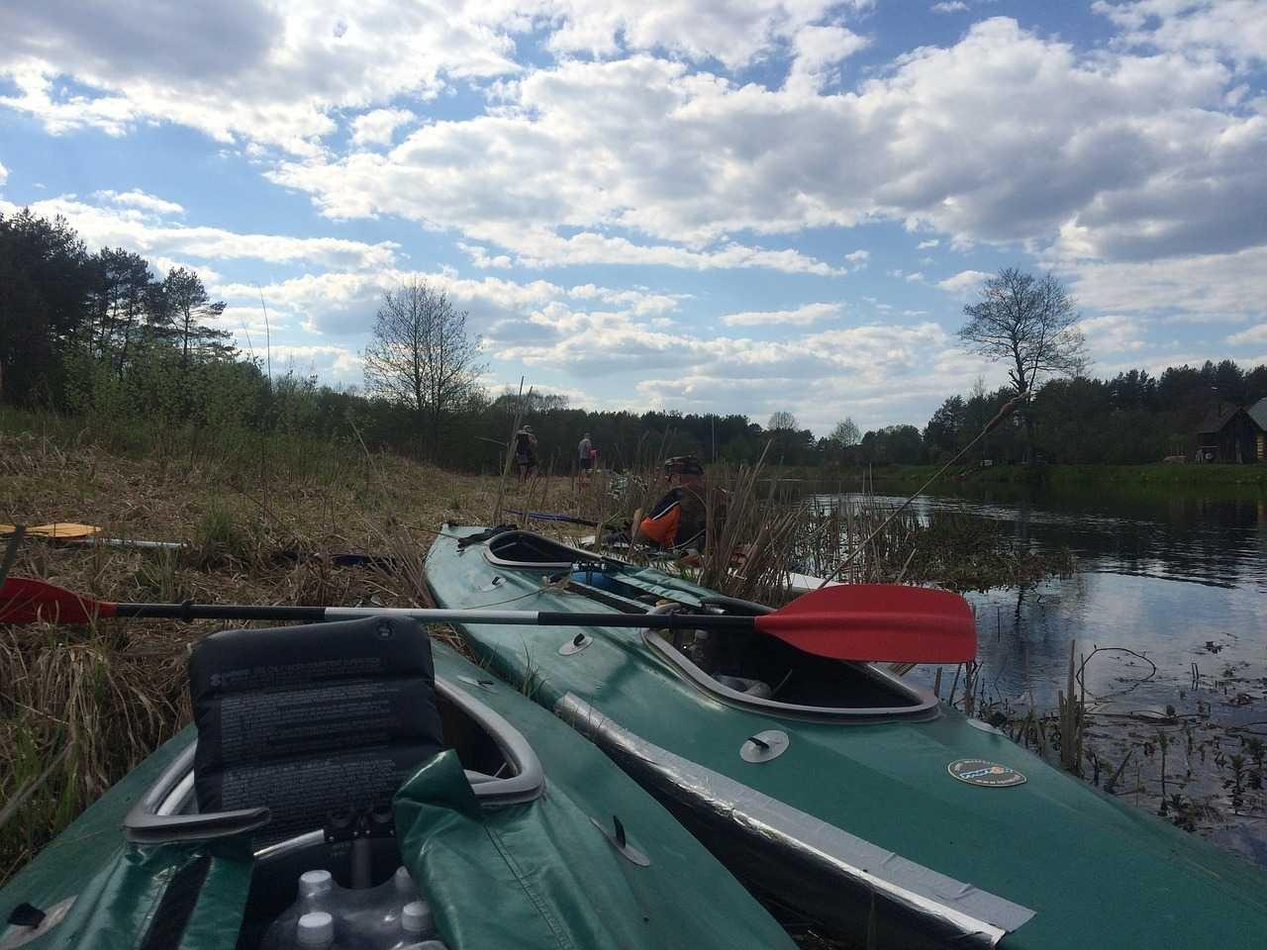kayak: (422, 516, 1260, 949), (5, 610, 796, 949)
